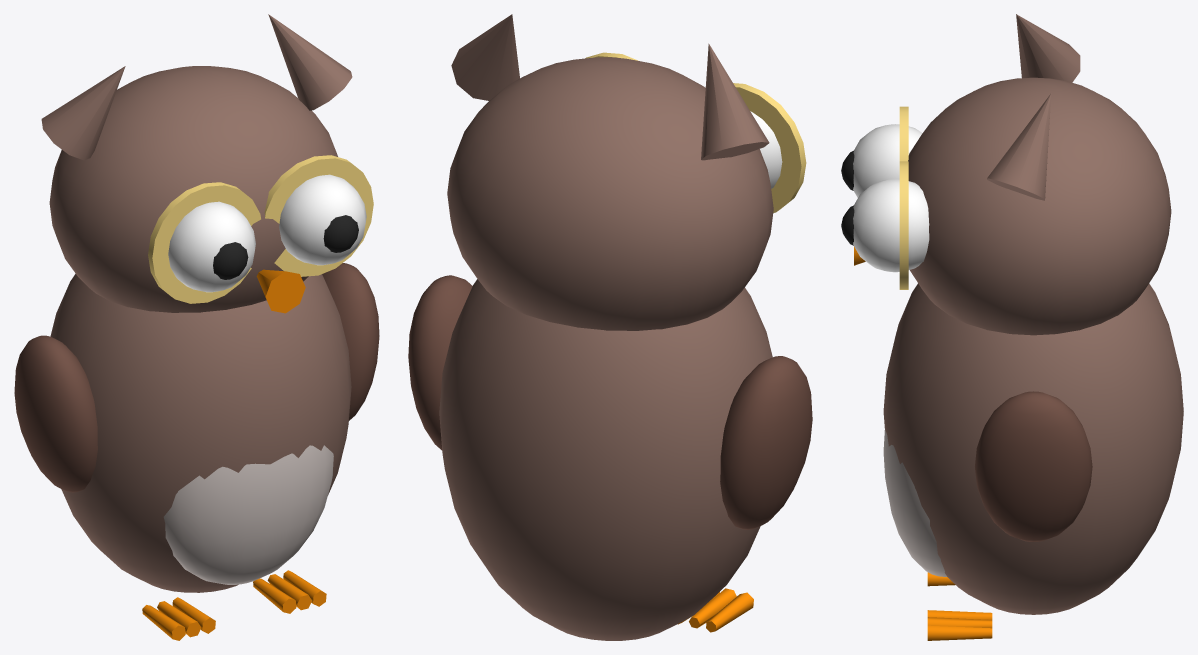
File: owl.glb
The picture shows the model from 3 angles, left to right: view 1: azimuth 30°, elevation 25°; view 2: azimuth 150°, elevation 25°; view 3: azimuth 270°, elevation 25°; orthographic projection. The views are drawn at different scales.
Parts seen in each view (by area): view 1: owl; view 2: owl; view 3: owl.
Part boxes in pixels (left/top/right/bottom): owl: left=14, top=14, right=379, bottom=640; owl: left=408, top=14, right=812, bottom=640; owl: left=841, top=14, right=1183, bottom=640.
Bounding box in the file's own units: 1.37 × 2.07 × 1.16.
